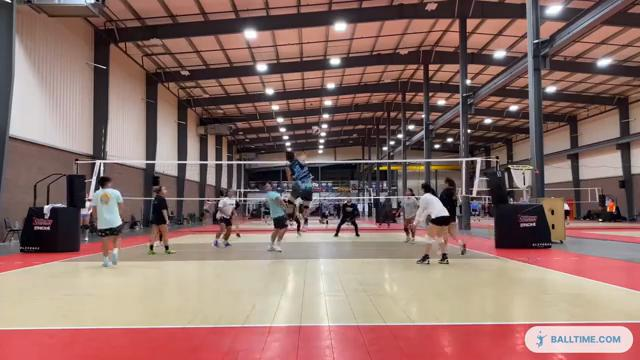Attack: (279, 144, 316, 232)
Player: (413, 183, 450, 263), (91, 176, 122, 266), (439, 178, 466, 254), (148, 186, 174, 254), (265, 183, 287, 251), (212, 190, 235, 246), (334, 199, 359, 236), (401, 189, 418, 242), (81, 194, 91, 241), (232, 201, 242, 237)
ball: (311, 125, 322, 137)
